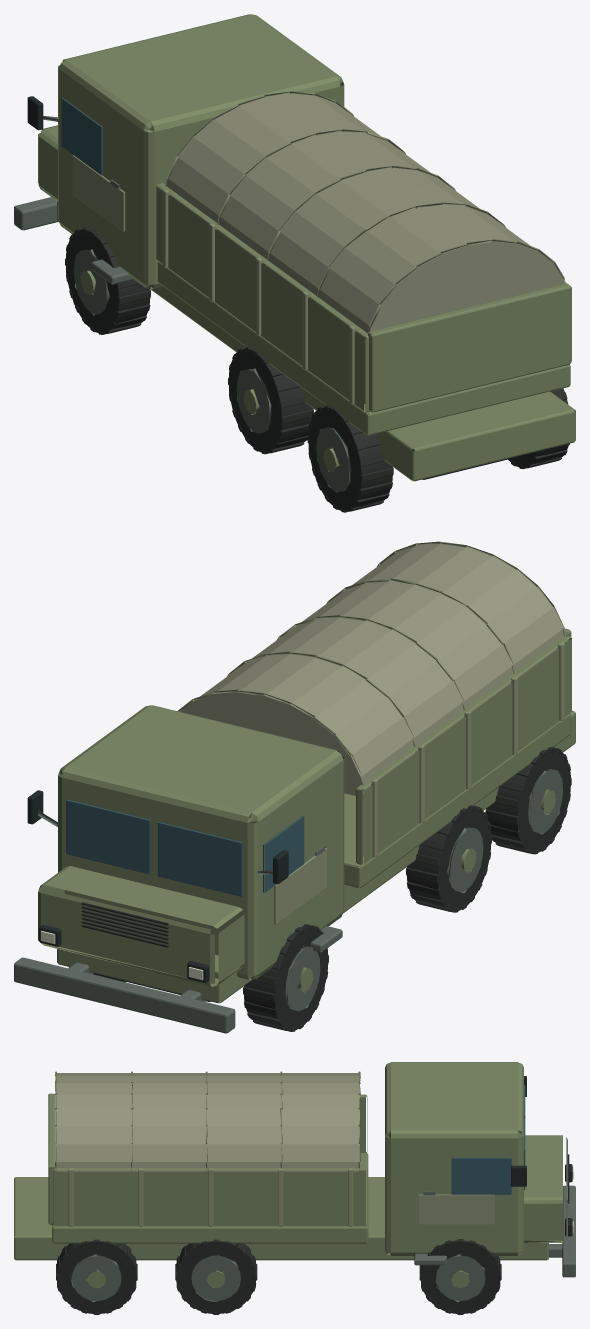
Rendered from truck.glb.
The picture shows the model from 3 angles, top to bottom: view 1: azimuth 30°, elevation 25°; view 2: azimuth 150°, elevation 25°; view 3: azimuth 270°, elevation 25°; orthographic projection. The views are drawn at different scales.
Visible parts, largest first — view 1: static.olive painted metal, static.canvas cover, static.rubber and track pads, static.edge and panel paint, static.dark exterior metal, static.smoked glazing, static.recess shadow; view 2: static.olive painted metal, static.canvas cover, static.rubber and track pads, static.dark exterior metal, static.smoked glazing, static.edge and panel paint, static.recess shadow; view 3: static.olive painted metal, static.canvas cover, static.rubber and track pads, static.dark exterior metal, static.edge and panel paint, static.smoked glazing, static.recess shadow.
Part boxes in pixels (box(x1,y1,x2,y2)): static.olive painted metal: box(38, 14, 575, 481); static.canvas cover: box(166, 93, 563, 345); static.rubber and track pads: box(65, 227, 569, 512); static.edge and panel paint: box(72, 91, 565, 404); static.dark exterior metal: box(14, 116, 351, 492); static.smoked glazing: box(61, 98, 102, 175); static.recess shadow: box(27, 96, 556, 479); static.olive painted metal: box(38, 628, 575, 1003); static.canvas cover: box(180, 544, 565, 797); static.rubber and track pads: box(69, 747, 571, 1031); static.dark exterior metal: box(14, 769, 562, 1033); static.smoked glazing: box(66, 799, 304, 896); static.edge and panel paint: box(177, 541, 566, 924); static.recess shadow: box(27, 790, 288, 1001); static.olive painted metal: box(14, 1062, 567, 1288); static.canvas cover: box(55, 1073, 359, 1171); static.rubber and track pads: box(56, 1239, 501, 1314); static.dark exterior metal: box(70, 1185, 575, 1302); static.edge and panel paint: box(55, 1071, 494, 1226); static.smoked glazing: box(451, 1085, 525, 1194); static.recess shadow: box(511, 1076, 572, 1236).
Size of the model in its own units: 3.1 by 3.06 by 8.
